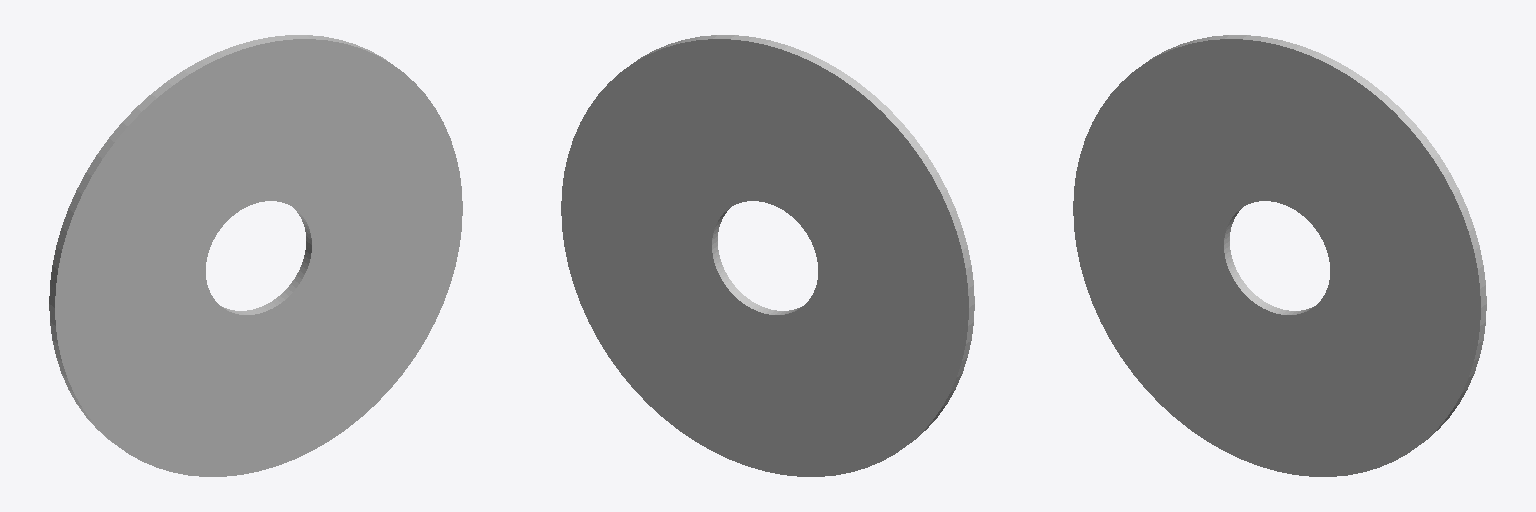
Rendered from InnerPixels_PositiveEndcap_passives_l13.obj.
The picture shows the model from 3 angles: view 1: azimuth 30°, elevation 25°; view 2: azimuth 150°, elevation 25°; view 3: azimuth 330°, elevation 25°; orthographic projection.
Size of the model in its own units: 246 by 246 by 6.08.